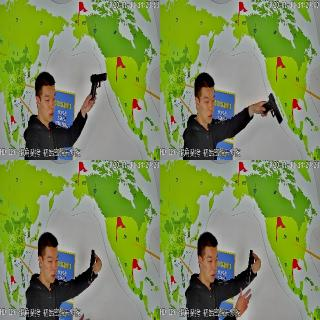gun: (259, 93, 283, 124), (86, 70, 108, 103), (241, 252, 257, 284), (86, 251, 100, 282)
